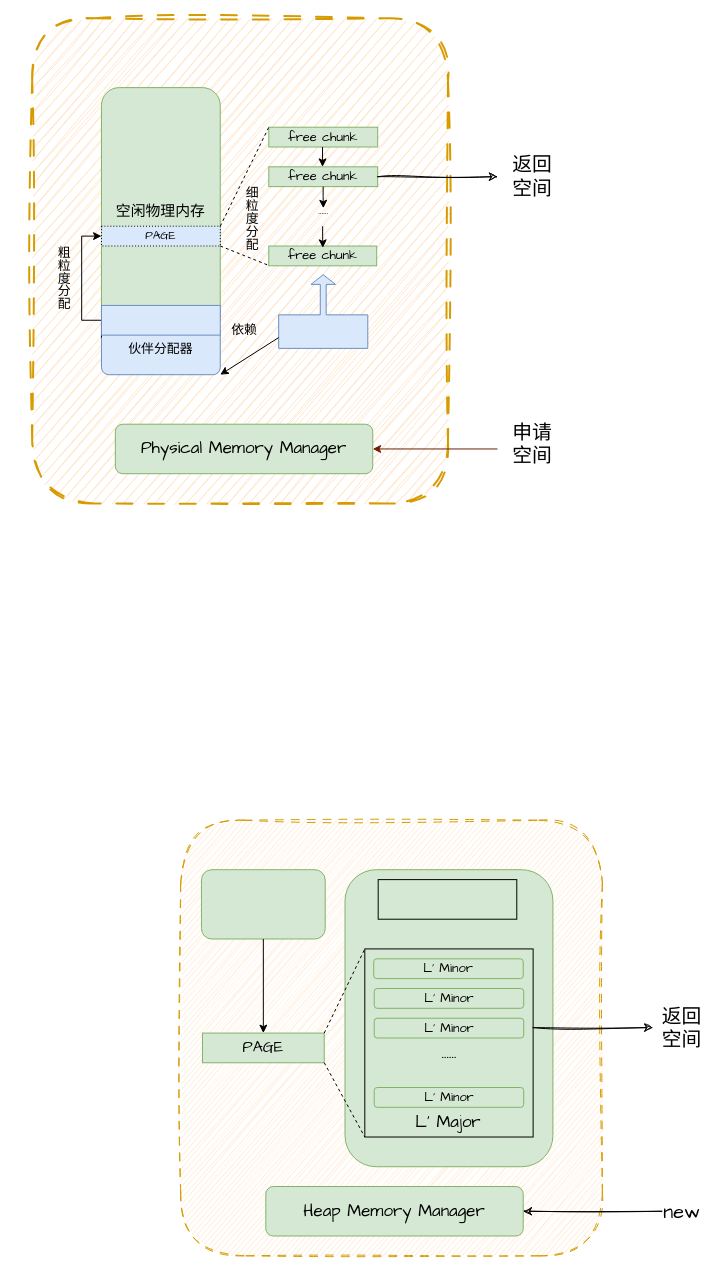
Image size: 728x1273. Some labels were removed from this diagram. Each missing label, with the centre of its shape:
Buddy Allocator: pixel 262 904
Lib Allocator: pixel 447 899
Slab分配器: pixel 323 311
物理内存管理树: pixel 160 319
